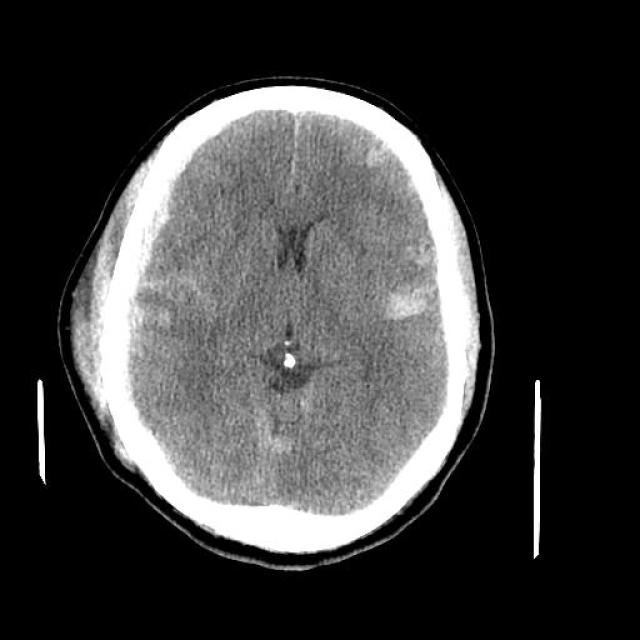Intraparenchymal: (375, 252, 444, 342)
Subdural: (92, 110, 222, 281)
